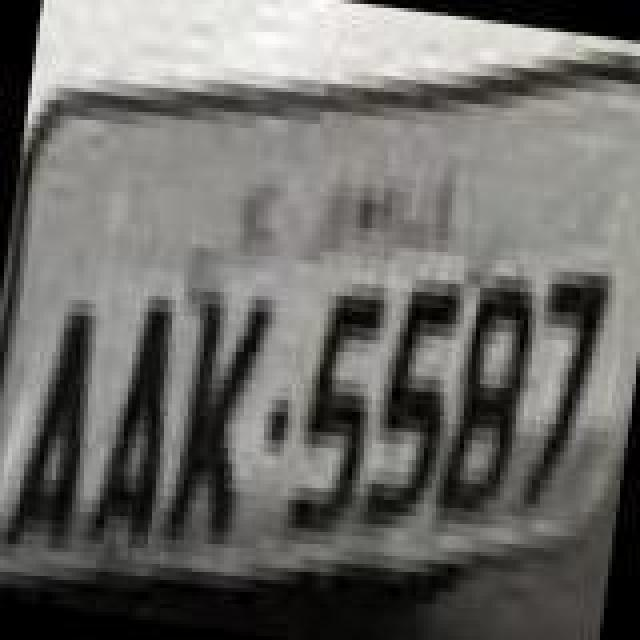5: (360, 272, 472, 536), (282, 280, 390, 552)
7: (512, 260, 616, 516)
8: (436, 274, 540, 526)
A: (82, 284, 190, 556), (6, 300, 106, 564)
K: (156, 286, 276, 554)
